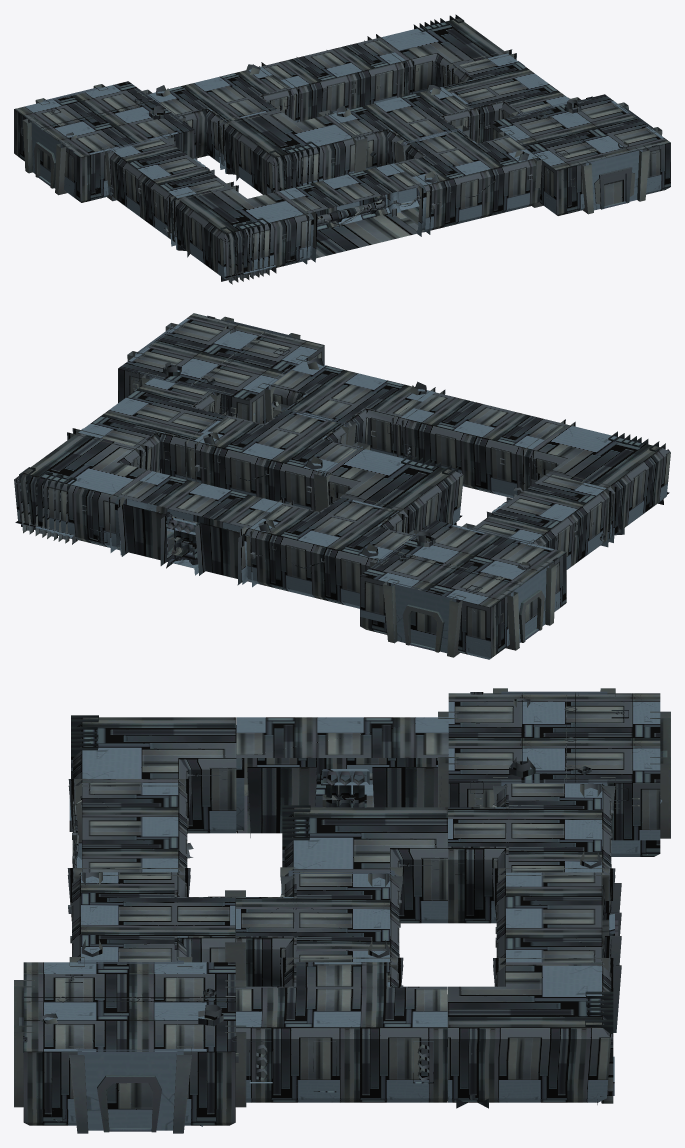
Rendered from Combined_Mesh_root_scene__2_ff295a5e__zombies2_diffuse_03_64bb9bc2_c1f257.obj.
3 views of the same model, one above another, from view 1: azimuth 30°, elevation 25°; view 2: azimuth 150°, elevation 25°; view 3: azimuth 270°, elevation 25° (orthographic). The views are drawn at different scales.
Bounding box in the file's own units: 81.96 × 9.64 × 62.02.
Materials: 180 (180 with a texture image).
